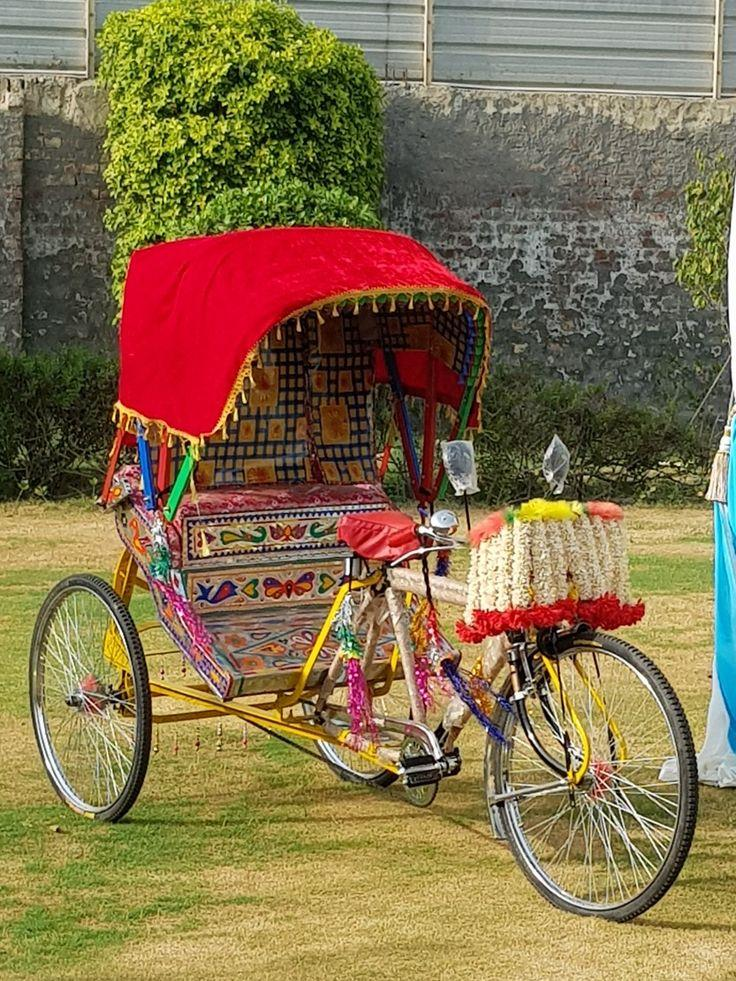Rickshaw: (30, 228, 696, 919)
